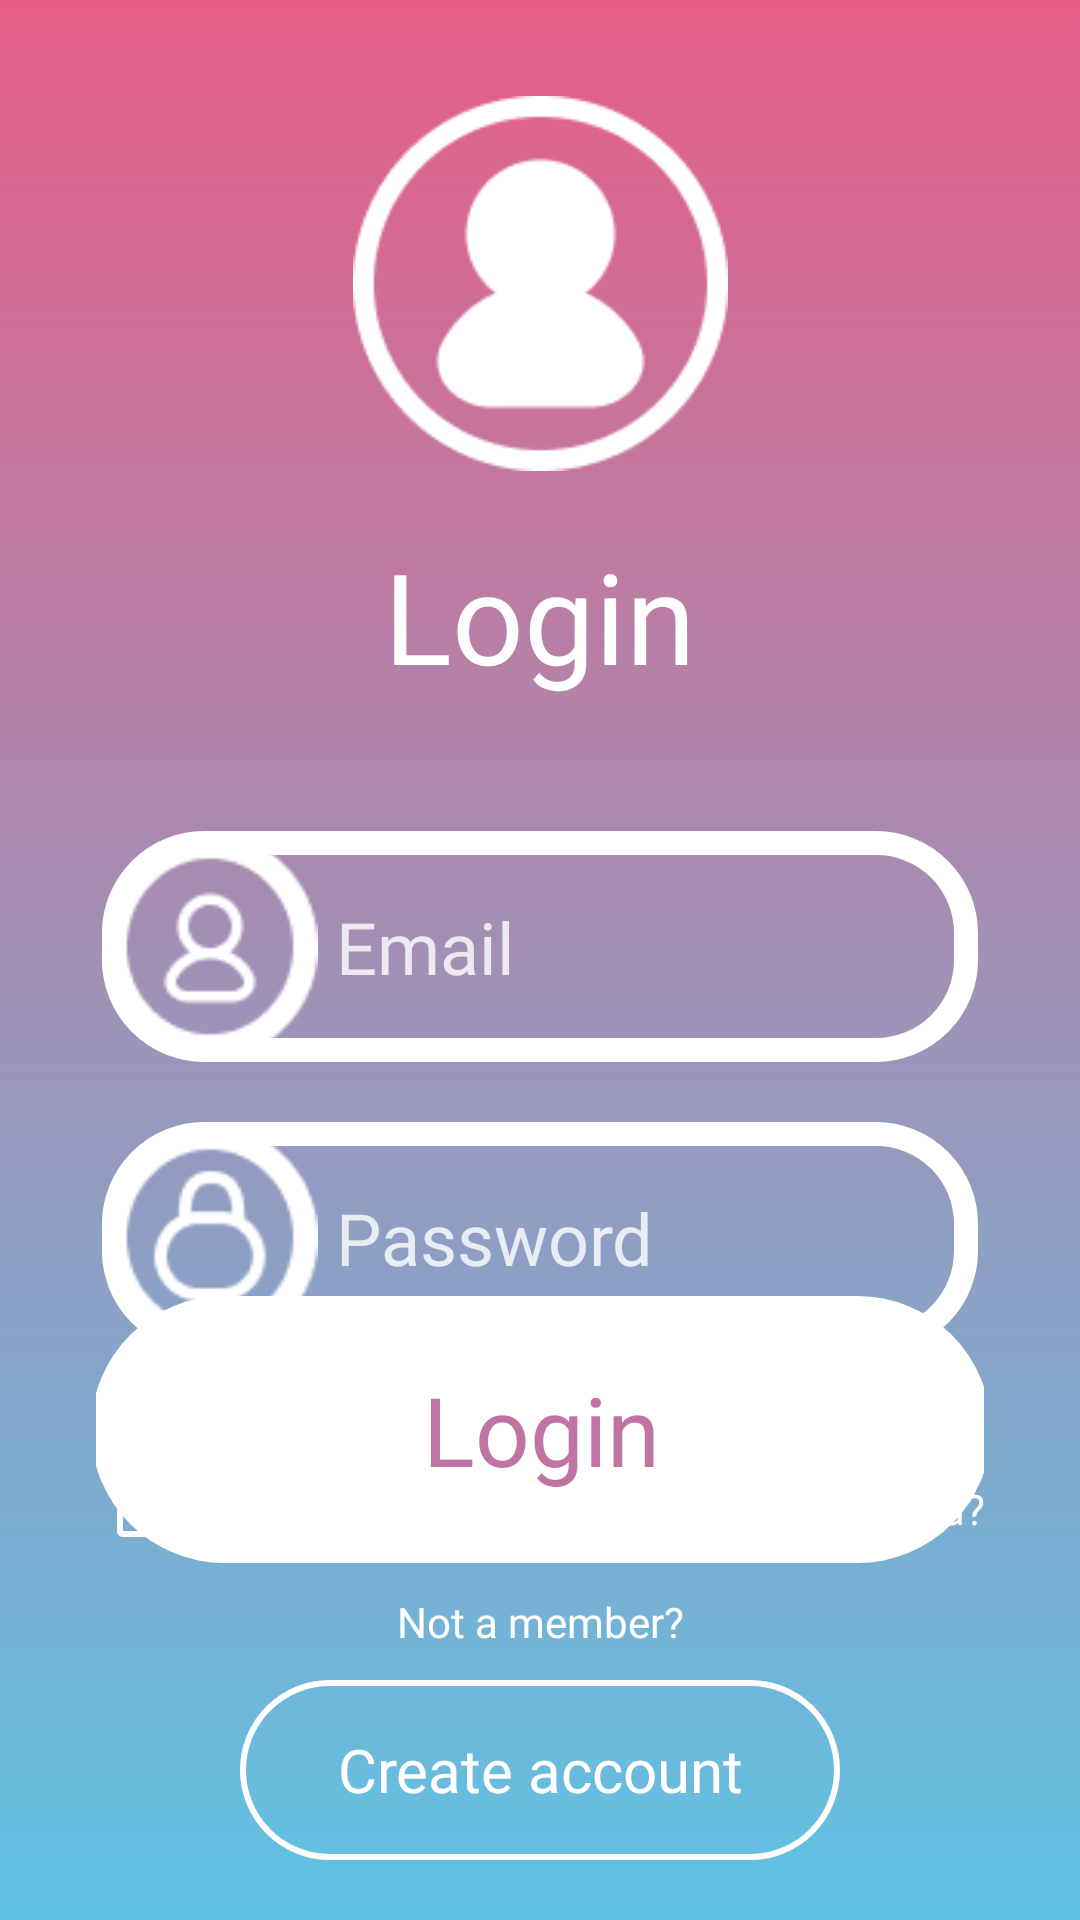

Named icons in this screenshot (1080 x 1920) and their centers, (x=x, y=y):
accounticon: (x=210, y=948)
lockicon: (x=210, y=1239)
